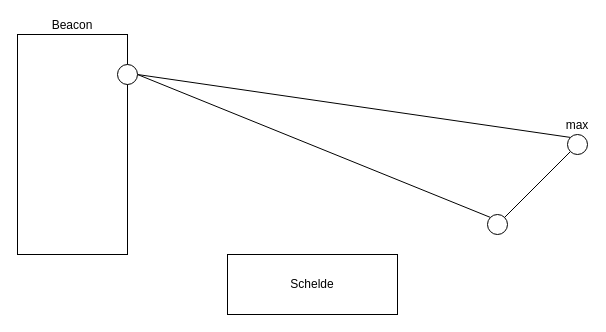
Image size: 606x332. Some labels were removed from this diagram. The shapes that lost their labels are listed below. From the top down, each one's centre as x and y in pixels, then its label:
point (127, 74): antenna
point (497, 224): min
